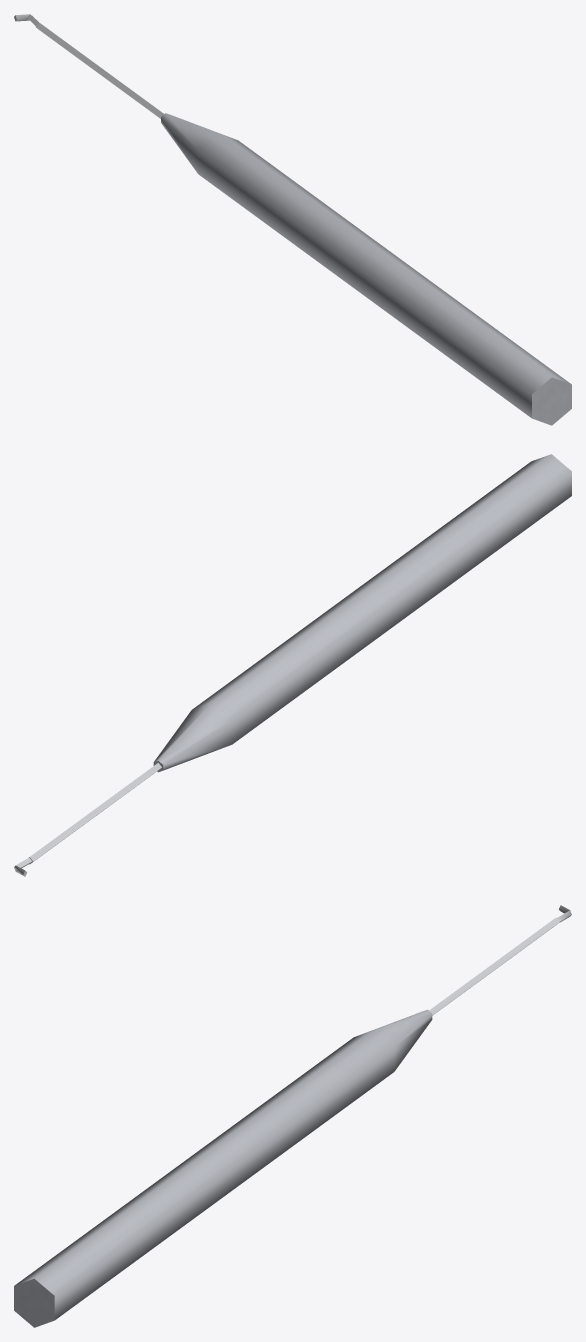
File: m5_micro_hook.glb
The picture shows the model from 3 angles, top to bottom: view 1: azimuth 30°, elevation 25°; view 2: azimuth 150°, elevation 25°; view 3: azimuth 330°, elevation 25°; orthographic projection.
Parts seen in each view (by area): view 1: m5_micro_hook; view 2: m5_micro_hook; view 3: m5_micro_hook.
Part boxes in pixels (x1,y1,x2,y2): m5_micro_hook: [14, 14, 571, 425]; m5_micro_hook: [14, 454, 571, 876]; m5_micro_hook: [14, 905, 571, 1327].
Size of the model in its own units: 0.00658 by 0.0076 by 0.1505.
Materials: 1 (1 with a texture image).
